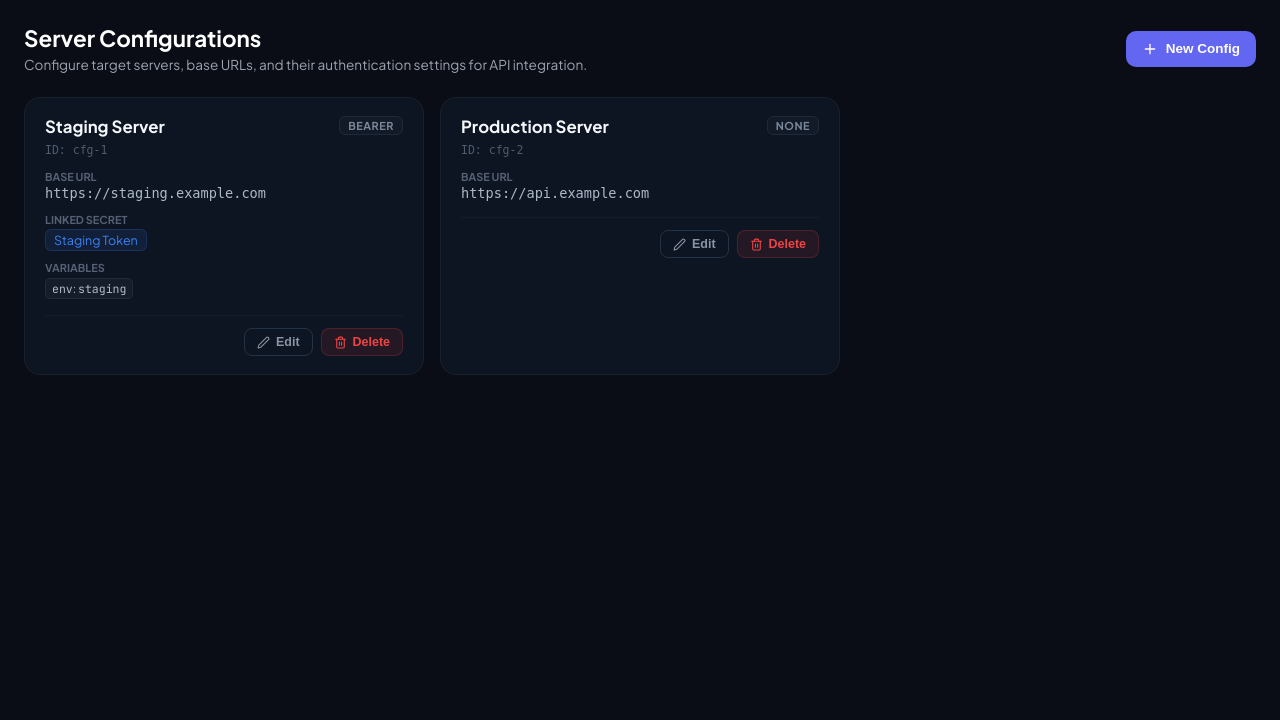
ServerConfigManager › delete_cancel_does_not_call_api
Expected: the heading "Staging Server" is shown, [45,116,165,137]
Click the button with aria-label "Delete Staging Server".
click(362, 342)  # box [321,328,403,356]
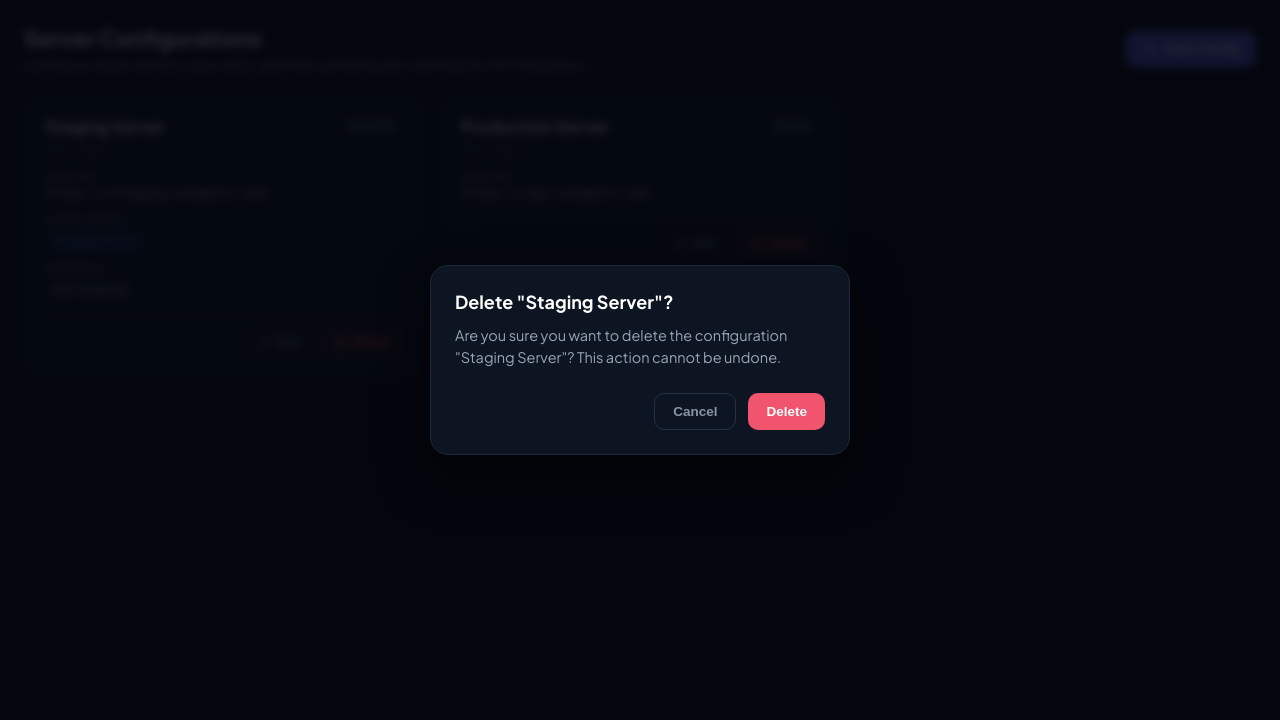
Click the button "Cancel".
click(695, 411)  # box [654,393,736,430]
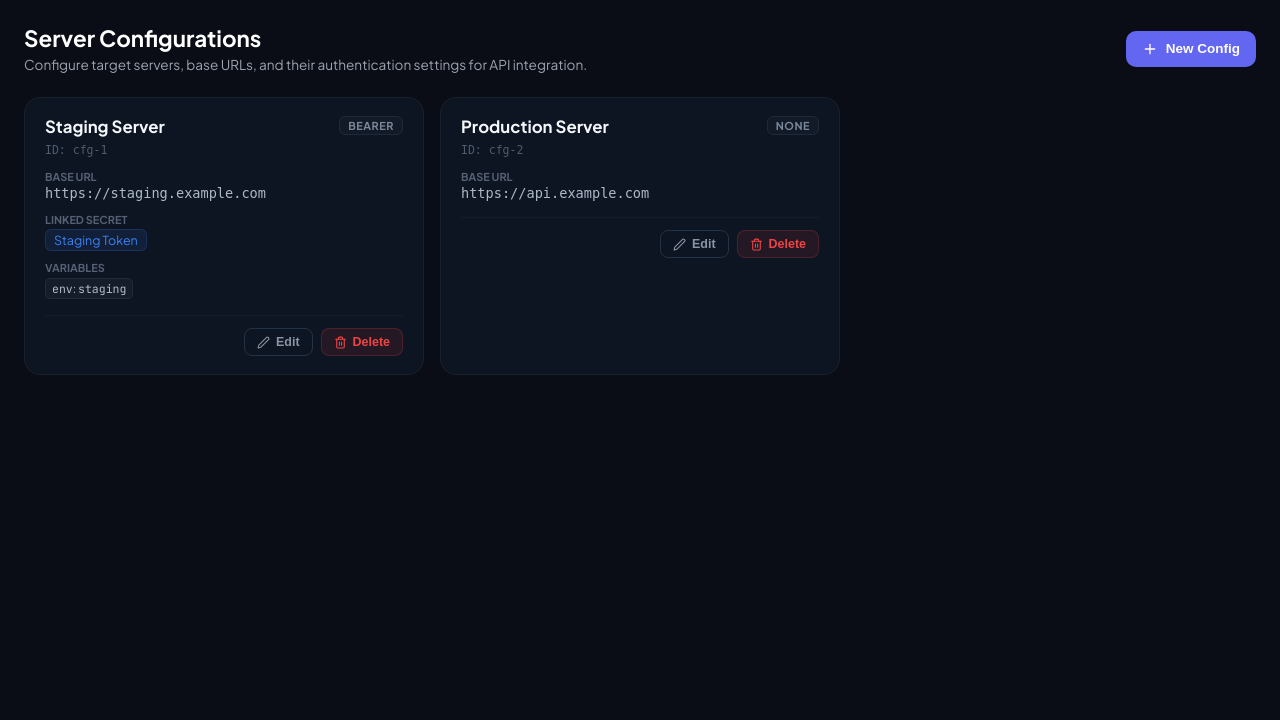
Now the text "Delete \"Staging Server\"?" is gone
